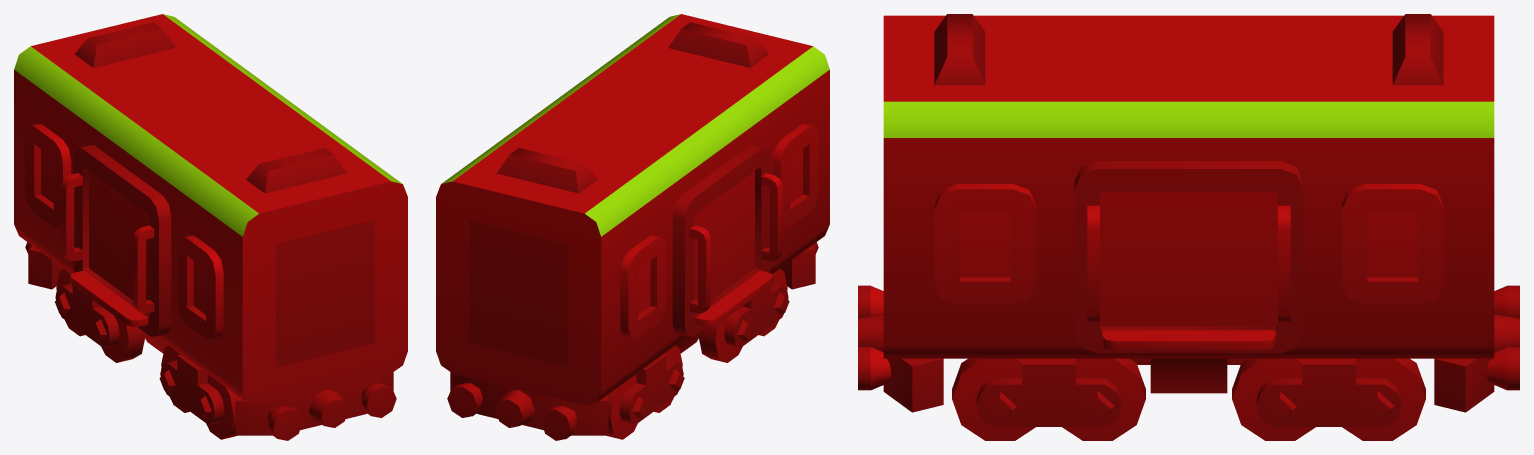
File: train-subway-c.glb
The picture shows the model from 3 angles, left to right: view 1: azimuth 30°, elevation 25°; view 2: azimuth 150°, elevation 25°; view 3: azimuth 270°, elevation 25°; orthographic projection. The views are drawn at different scales.
Parts seen in each view (by area): view 1: train-electric-subway-c, wheels-front, wheels-back; view 2: train-electric-subway-c, wheels-back, wheels-front; view 3: train-electric-subway-c, wheels-front, wheels-back.
Part boxes in pixels (x1=…): train-electric-subway-c: x1=14, y1=14, x2=407, y2=440; wheels-front: x1=159, y1=346, x2=237, y2=439; wheels-back: x1=55, y1=269, x2=144, y2=362; train-electric-subway-c: x1=436, y1=14, x2=829, y2=440; wheels-back: x1=606, y1=346, x2=684, y2=439; wheels-front: x1=699, y1=269, x2=789, y2=362; train-electric-subway-c: x1=858, y1=14, x2=1519, y2=412; wheels-front: x1=952, y1=358, x2=1145, y2=440; wheels-back: x1=1232, y1=358, x2=1425, y2=440.
Size of the model in its own units: 1.35 by 1.57 by 2.6.
